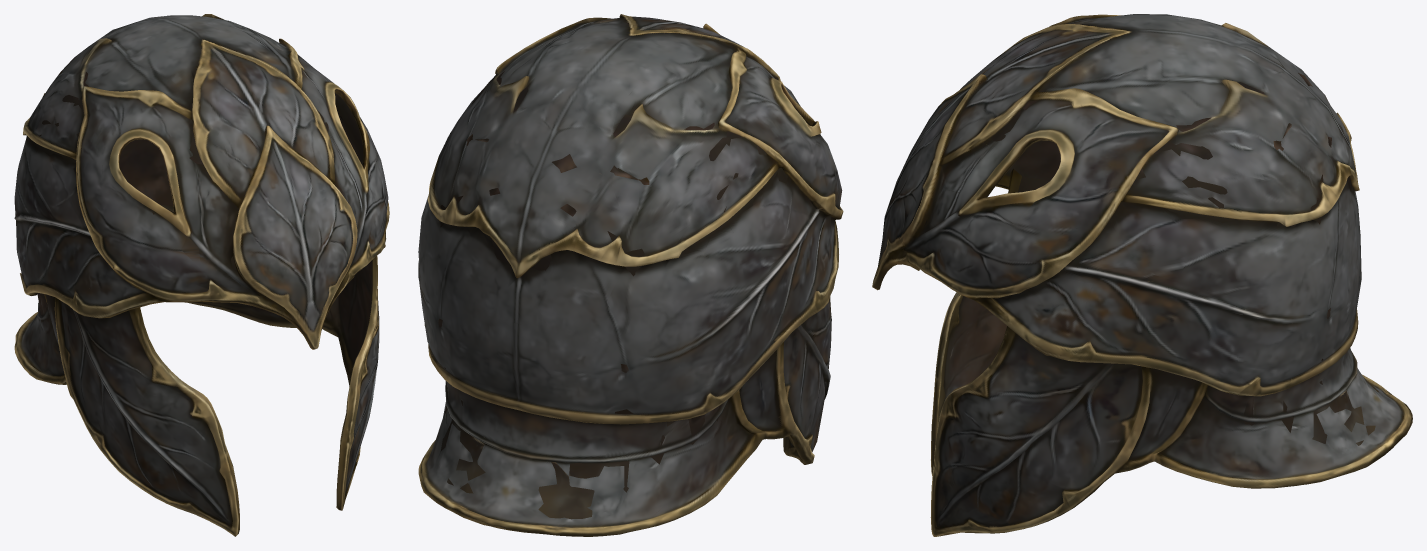
The model's file is Wear_LeafHelmet.fbx.
3 renders of one model, left to right at view 1: azimuth 30°, elevation 25°; view 2: azimuth 150°, elevation 25°; view 3: azimuth 270°, elevation 25°, orthographic. The views are drawn at different scales.
Visible parts, largest first — view 1: Wear_LeafHelmet; view 2: Wear_LeafHelmet; view 3: Wear_LeafHelmet.
Boxes of the visible parts, x1,y1,x2,y2 form: Wear_LeafHelmet: (14, 14, 389, 536); Wear_LeafHelmet: (418, 14, 843, 536); Wear_LeafHelmet: (872, 14, 1412, 536).
Size of the model in its own units: 0.2845 by 0.3895 by 0.4.
